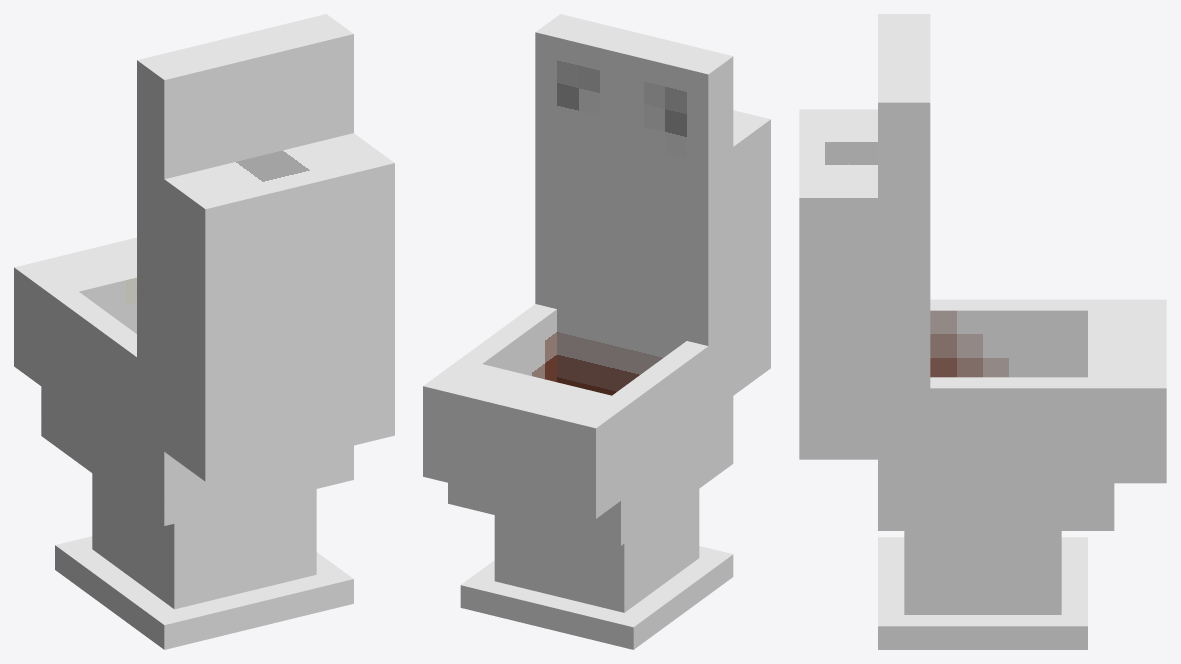
The model's file is Toilet.fbx.
3 renders of one model, left to right at view 1: azimuth 30°, elevation 25°; view 2: azimuth 150°, elevation 25°; view 3: azimuth 270°, elevation 25°, orthographic. The views are drawn at different scales.
Parts seen in each view (by area): view 1: cube_8, cube_7, cube_1, cube_2, cube, cube_3, cube_5, cube_4; view 2: cube_7, cube_3, cube_1, cube, cube_8, cube_2, cube_4, cube_5, cube_6; view 3: cube_8, cube_7, cube_6, cube_3, cube_1, cube_5, cube, cube_2, cube_4.
Boxes of the visible parts, box(x1,y1,x2,y2) form: cube_8: box(164, 133, 394, 481); cube_7: box(137, 14, 353, 376); cube_1: box(92, 473, 316, 609); cube_2: box(41, 386, 353, 525); cube: box(55, 536, 353, 649); cube_3: box(14, 237, 136, 395); cube_5: box(55, 291, 136, 455); cube_4: box(137, 357, 189, 476); cube_7: box(535, 14, 733, 345); cube_3: box(423, 359, 633, 518); cube_1: box(494, 489, 699, 612); cube: box(460, 546, 733, 649); cube_8: box(733, 110, 770, 395); cube_2: box(448, 419, 733, 545); cube_4: box(557, 309, 733, 436); cube_5: box(612, 341, 708, 490); cube_6: box(461, 304, 556, 382); cube_8: box(799, 109, 877, 459); cube_7: box(878, 14, 930, 388); cube_6: box(930, 377, 1087, 483); cube_3: box(1088, 299, 1166, 483); cube_1: box(904, 531, 1061, 614); cube_5: box(930, 299, 1087, 377); cube: box(878, 537, 1087, 649); cube_2: box(878, 483, 1114, 530); cube_4: box(878, 388, 930, 483).
Bounding box in the file's own units: 50 × 144 × 87.5.
Materials: 2 (2 with a texture image).
